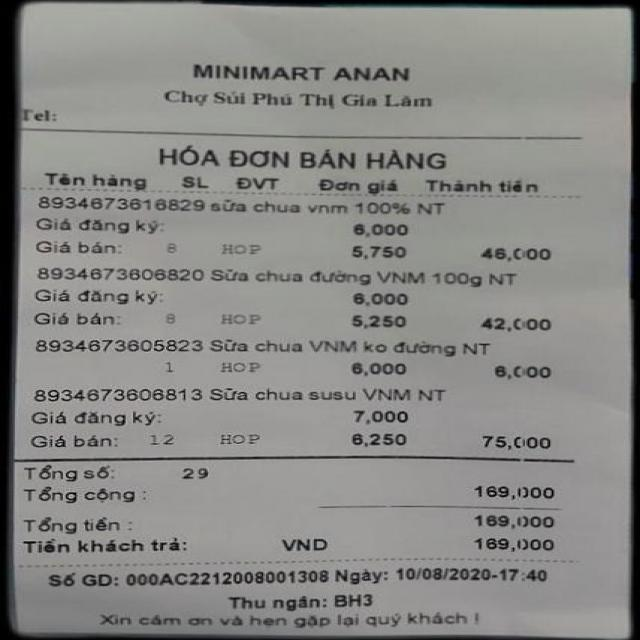Date: (396, 562, 492, 586)
Store_Name: (165, 53, 430, 92)
Total_Amount: (15, 482, 569, 511)
